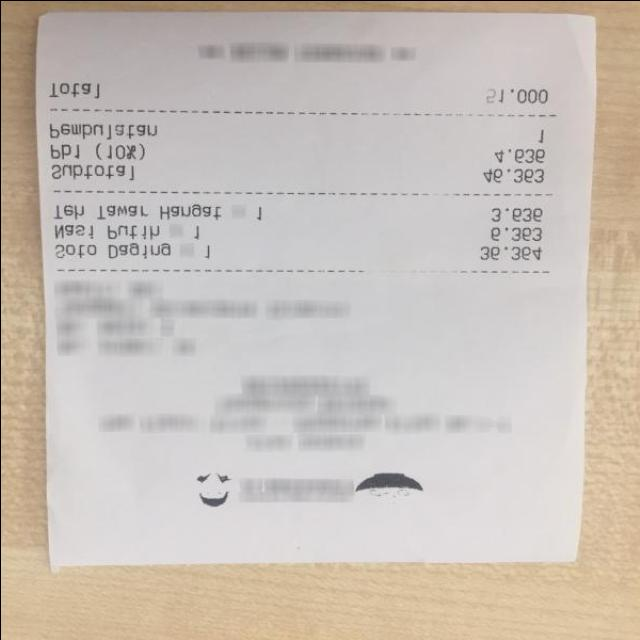kertas: (36, 11, 594, 568)
